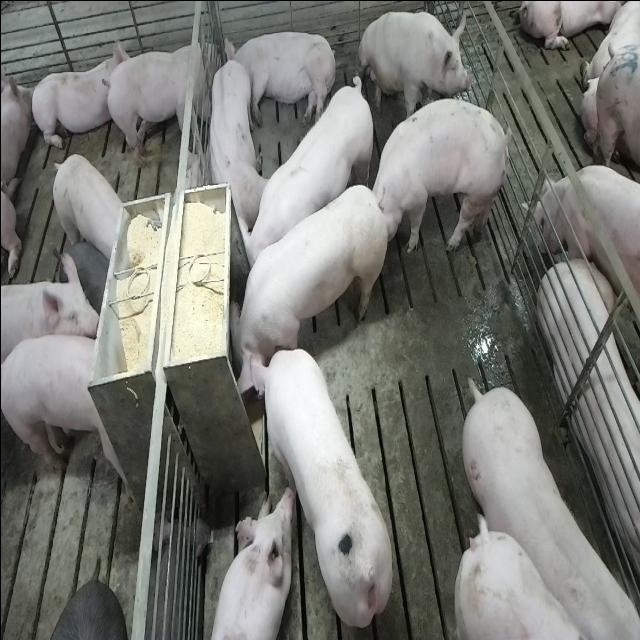Feeding: (244, 342, 396, 627), (229, 175, 393, 384)
Lateral_lying: (539, 253, 640, 607), (222, 28, 337, 128)
Sitting: (356, 8, 472, 126)
Standing: (456, 373, 634, 634), (242, 71, 377, 283), (368, 96, 512, 260), (1, 334, 134, 502), (104, 27, 218, 170), (532, 166, 640, 310), (3, 251, 104, 394), (50, 152, 124, 260)
Sternal_lying: (208, 486, 292, 640), (28, 33, 124, 154), (203, 55, 264, 228)
